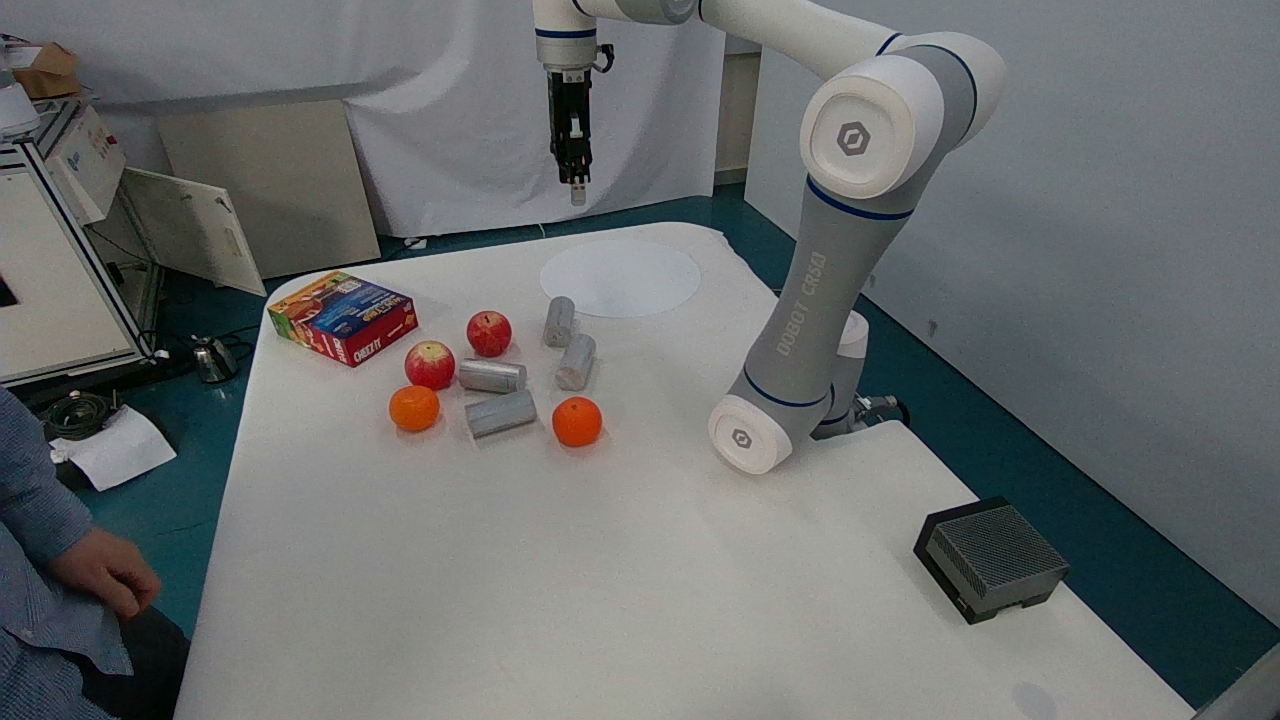apple: (393, 330, 470, 387), (457, 298, 520, 365)
metal rod: (450, 381, 544, 440), (451, 346, 538, 395), (554, 329, 607, 398), (537, 291, 583, 348)
orange: (377, 369, 453, 448), (541, 377, 610, 462)
